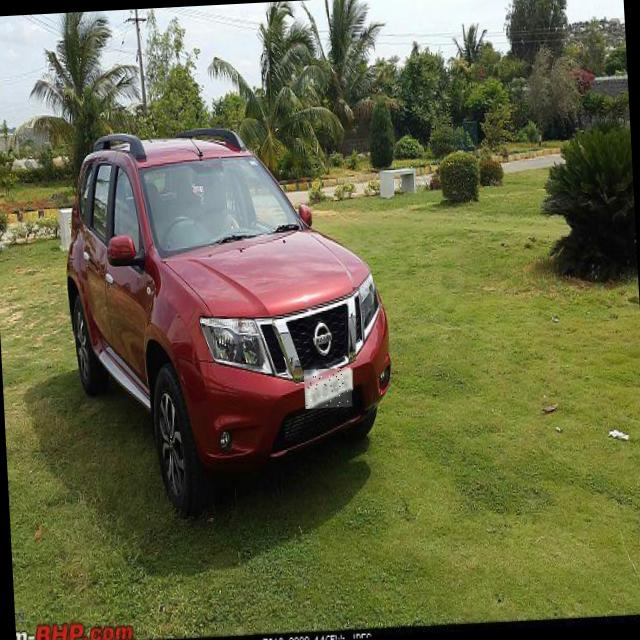Plate: (305, 369, 354, 410)
